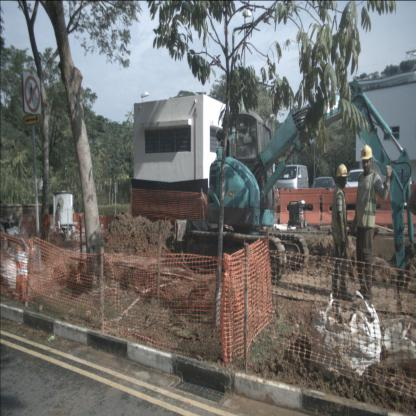barrier: (370, 184, 416, 225), (322, 187, 370, 225), (280, 188, 322, 224), (97, 214, 122, 234), (60, 212, 82, 233)
cone: (12, 244, 29, 300)
